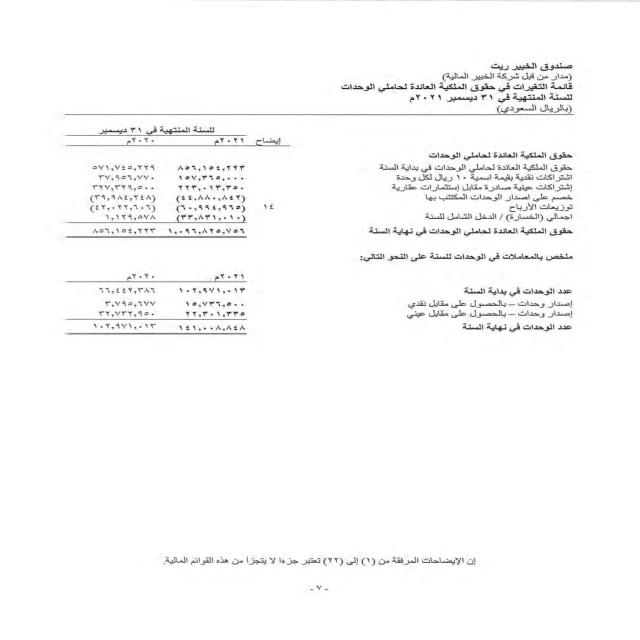financial_sheets: (332, 81, 576, 93)
table: (48, 119, 288, 357)
